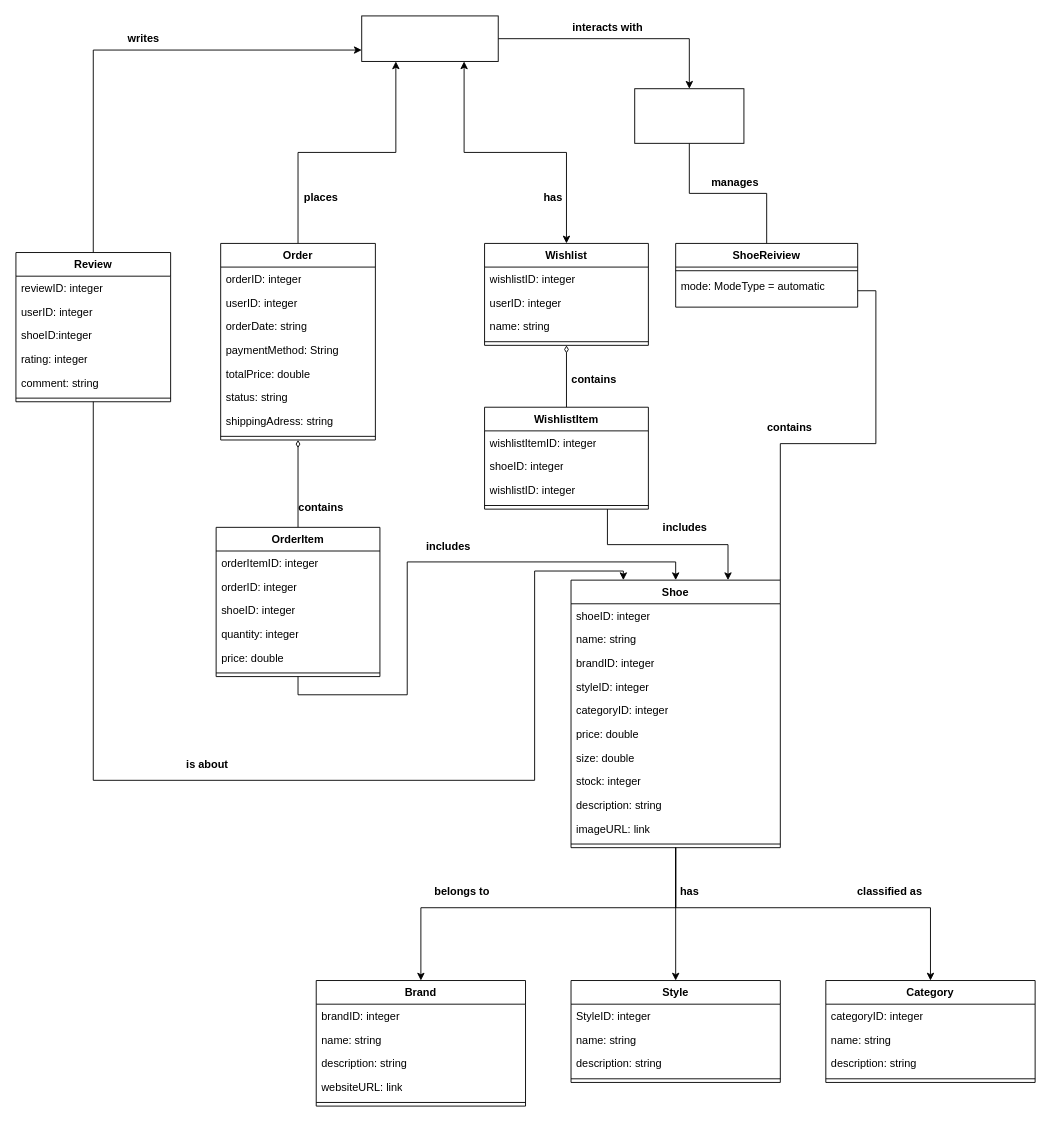
The diagram is 1051 pixels wide and 1122 high, and some of its shapes have lost their labels. The centre of each missing label's shape, as x and y in pixels:
Control Panel: (x=689, y=115)
User: (x=429, y=38)
